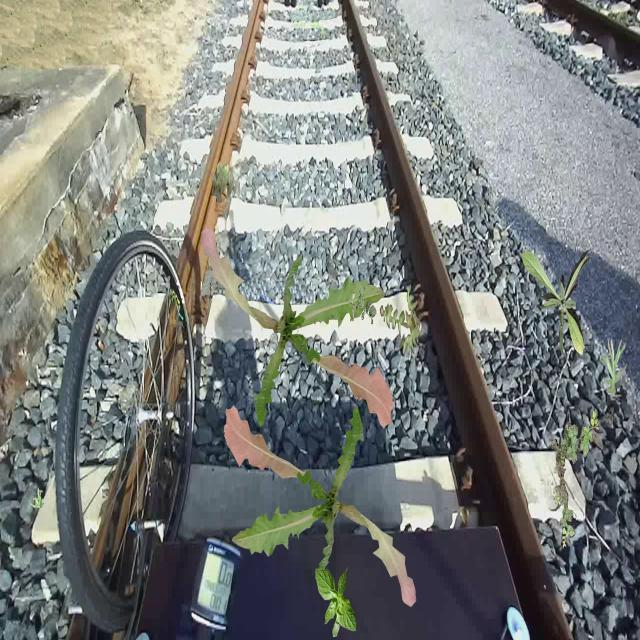Plant: (201, 226, 394, 428), (224, 405, 416, 608), (521, 249, 592, 357), (551, 411, 600, 549), (380, 284, 422, 356), (315, 567, 357, 638), (601, 337, 628, 394), (211, 161, 237, 204), (349, 283, 376, 324), (31, 488, 45, 508)
